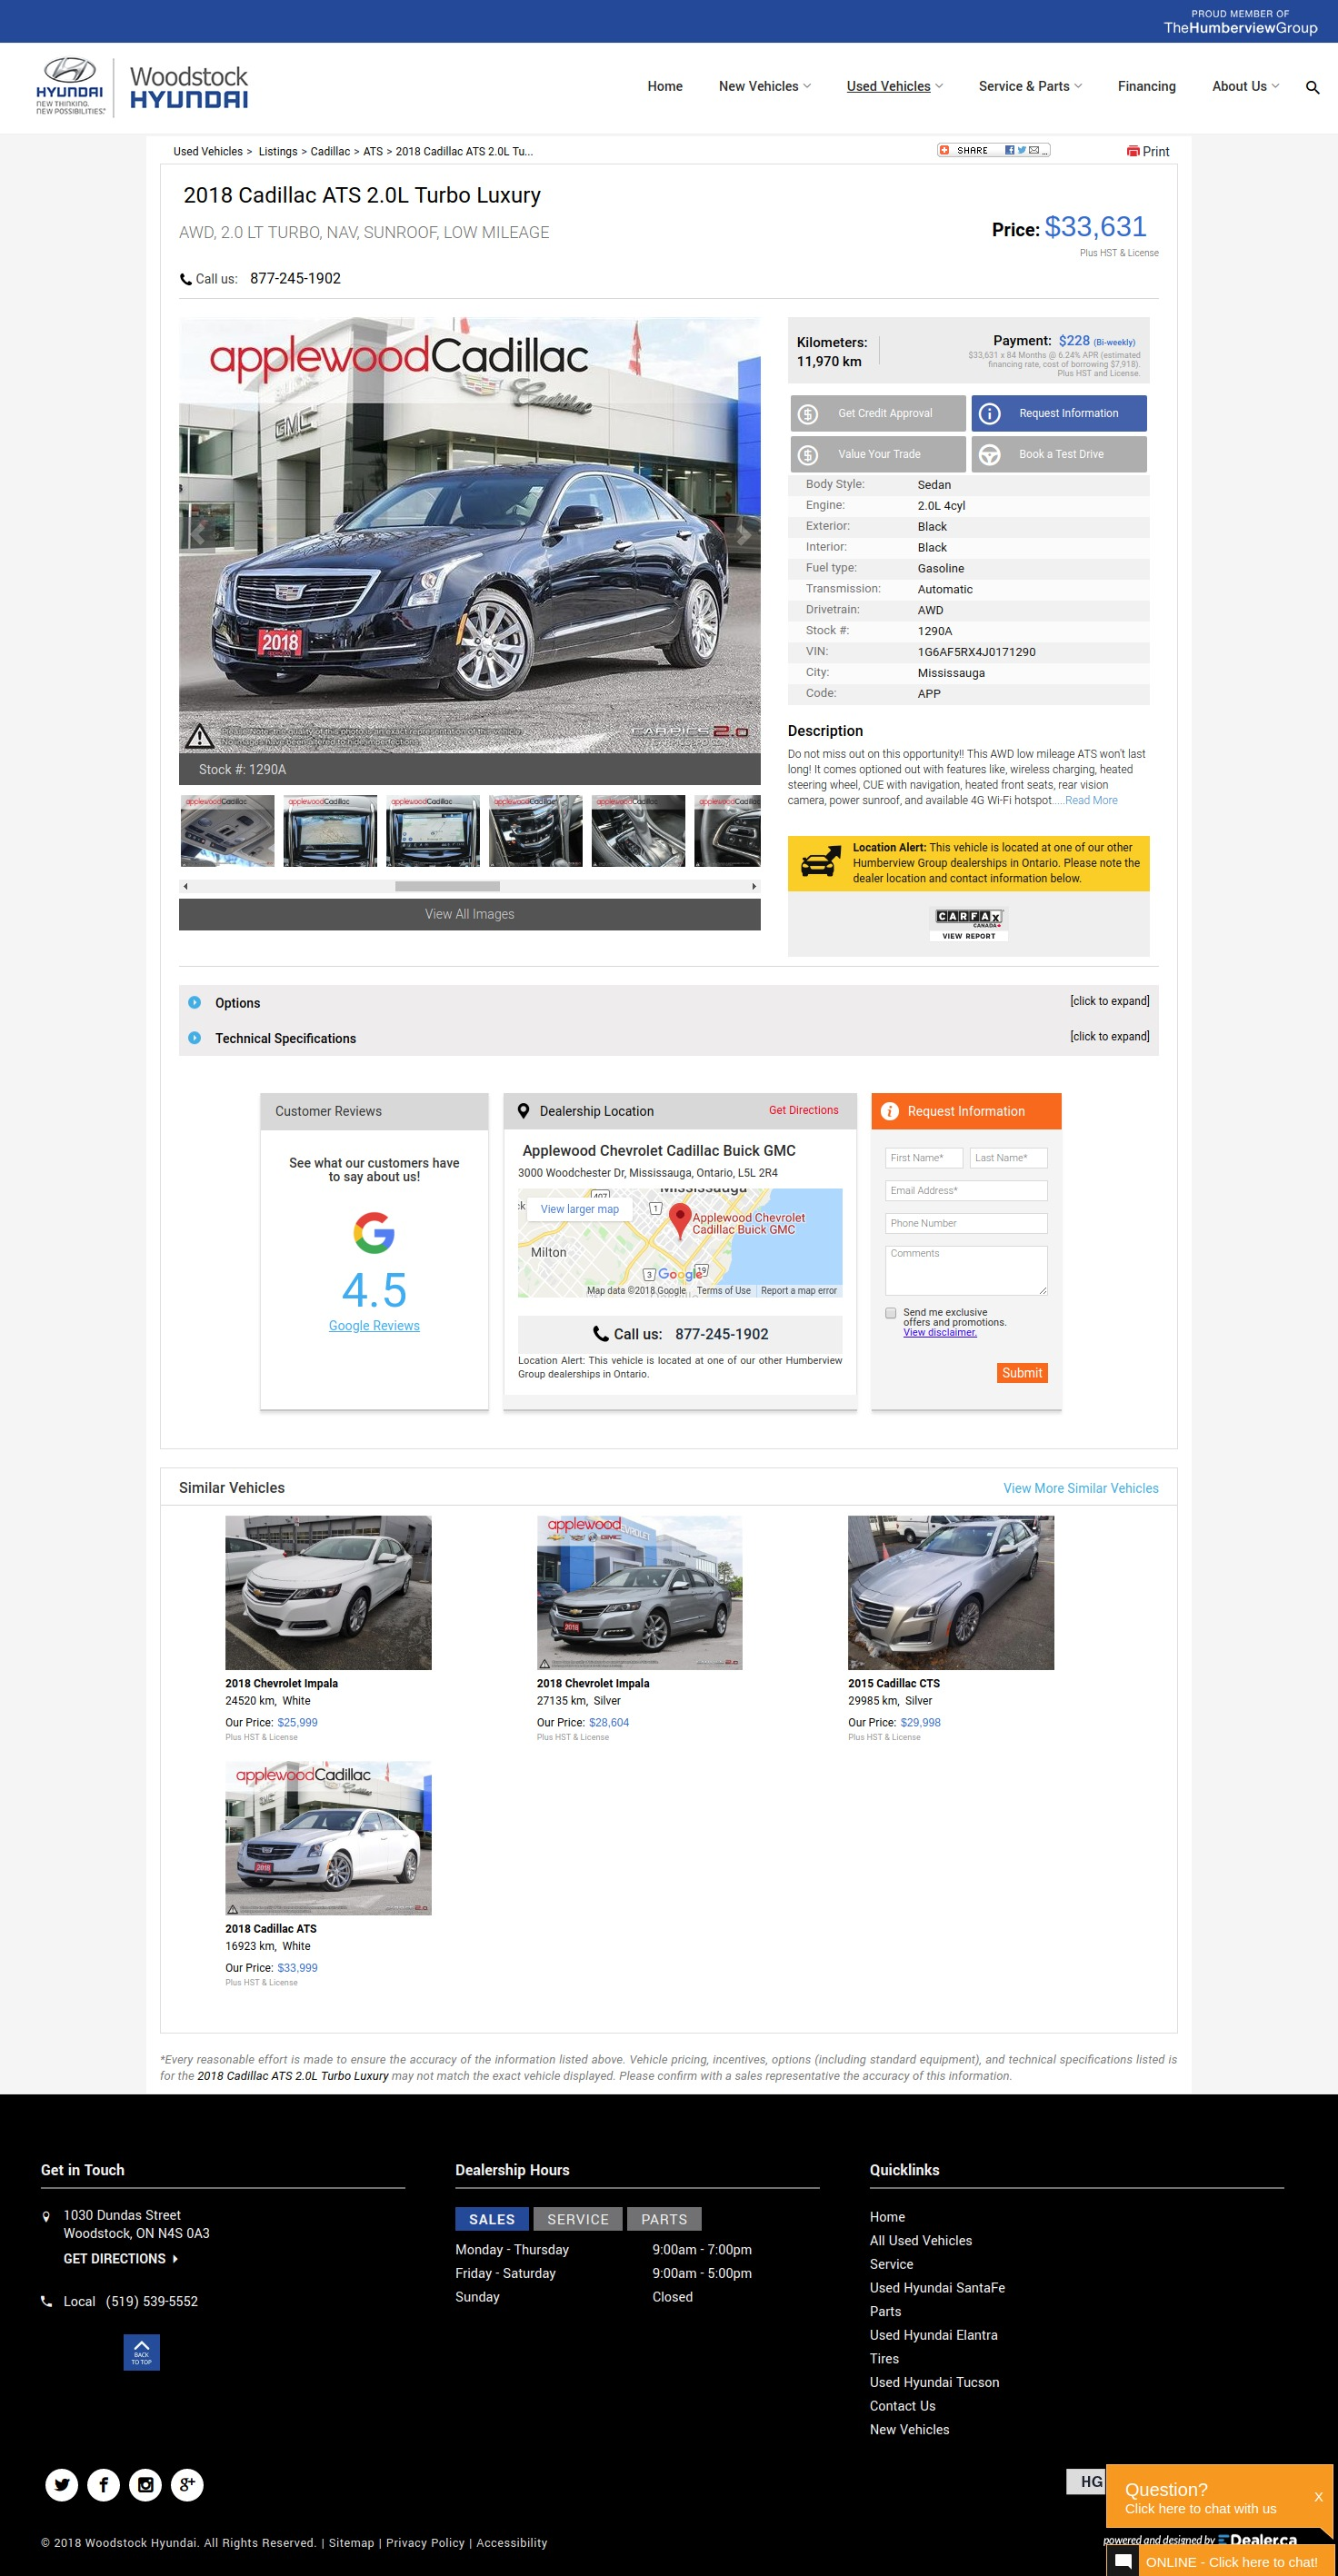car: (753, 883, 757, 891)
